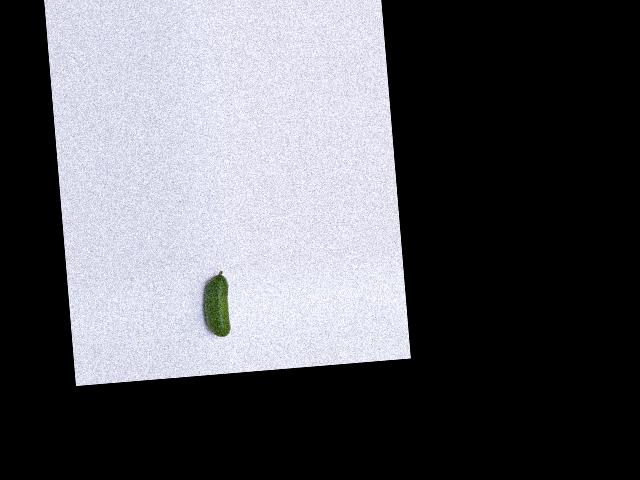cucumber: (201, 270, 231, 338)
